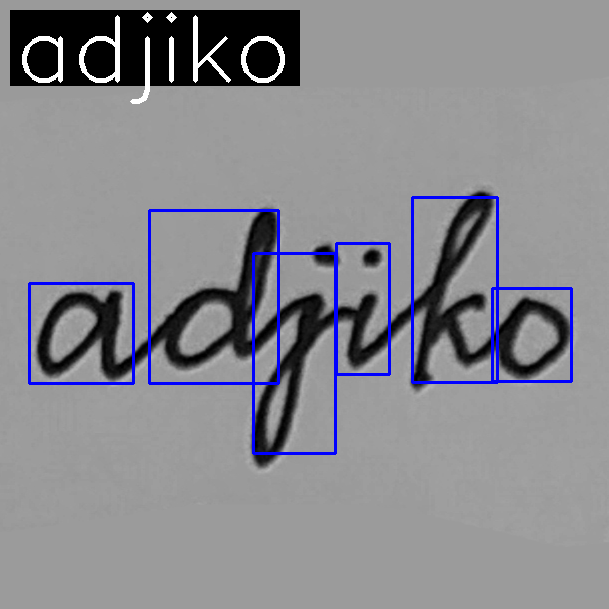a: (32, 285, 135, 390)
d: (158, 203, 282, 371)
i: (341, 242, 389, 373)
j: (247, 237, 340, 471)
k: (404, 185, 496, 393)
o: (493, 290, 576, 383)
